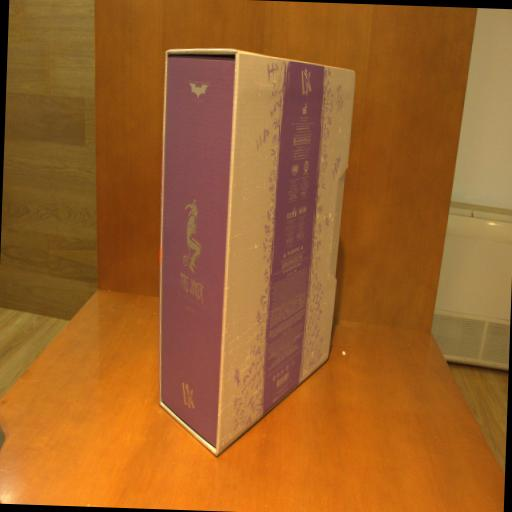Joker: (149, 44, 359, 462)
